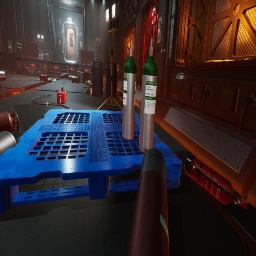0: (139, 36, 158, 153), (122, 40, 137, 140), (85, 88, 92, 95), (86, 80, 91, 85), (0, 71, 5, 76), (52, 79, 56, 82), (98, 61, 100, 62)
EmergencyPhone ,: (80, 41, 82, 47), (120, 66, 122, 71)
FireAlarm ,: (59, 40, 61, 44)
FireExtinguisher ]: (184, 153, 247, 210), (0, 74, 6, 81), (88, 82, 92, 87), (56, 90, 60, 92), (234, 203, 236, 204), (82, 64, 86, 64)
FirstAidBox ,: (57, 87, 67, 104), (40, 75, 48, 81), (72, 77, 79, 83)
NitrogenTank ,: (125, 148, 169, 256), (0, 130, 17, 156), (0, 111, 19, 134), (59, 72, 69, 79), (68, 75, 77, 80)
SafetySwitchPanel ,: (157, 16, 164, 44), (7, 40, 13, 53), (116, 64, 120, 74)
